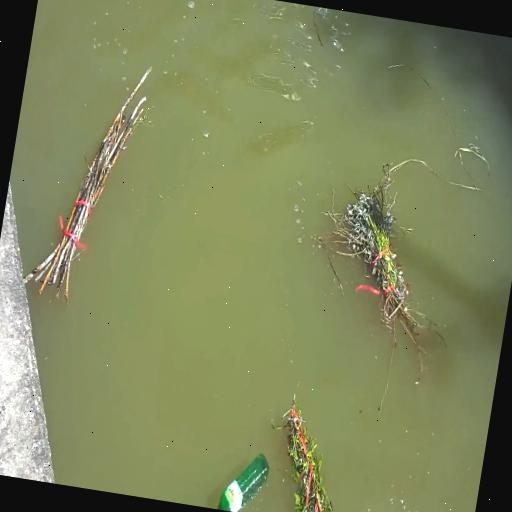plastic: (215, 446, 272, 512)
twig: (16, 47, 159, 310), (329, 176, 442, 340), (266, 397, 362, 512)
